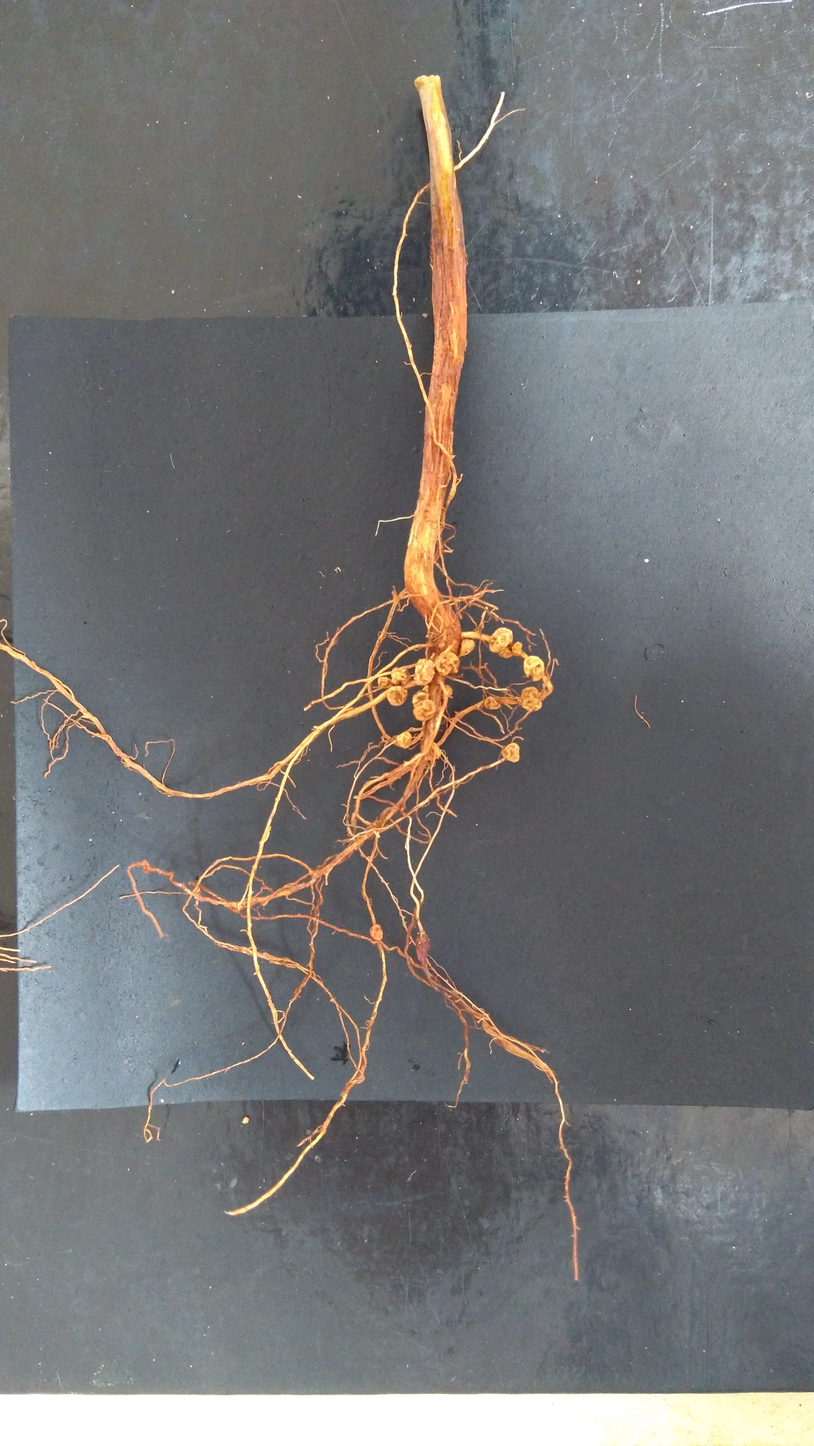nodule: (486, 624, 515, 660), (410, 689, 437, 722), (434, 649, 462, 677), (518, 685, 543, 713), (412, 657, 436, 686), (522, 655, 547, 682), (385, 684, 409, 708), (500, 741, 522, 764), (420, 740, 442, 762), (389, 666, 411, 687), (458, 636, 477, 659), (416, 931, 430, 961), (395, 731, 414, 751), (367, 923, 385, 942), (483, 695, 502, 711), (511, 640, 523, 657), (376, 676, 392, 687), (443, 683, 454, 699)
